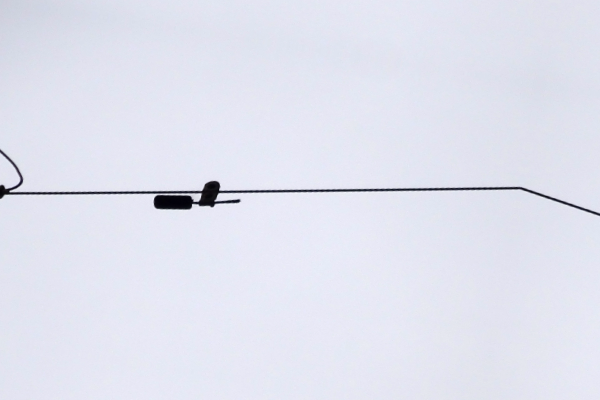damper_defect: (151, 179, 248, 212)
